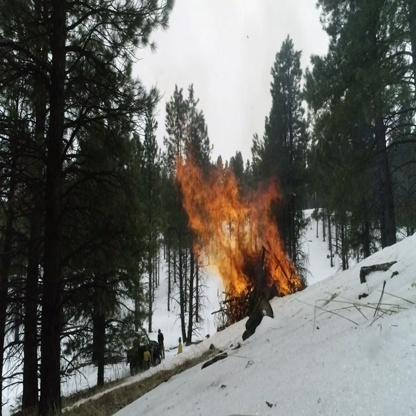Fire: (173, 142, 306, 305)
